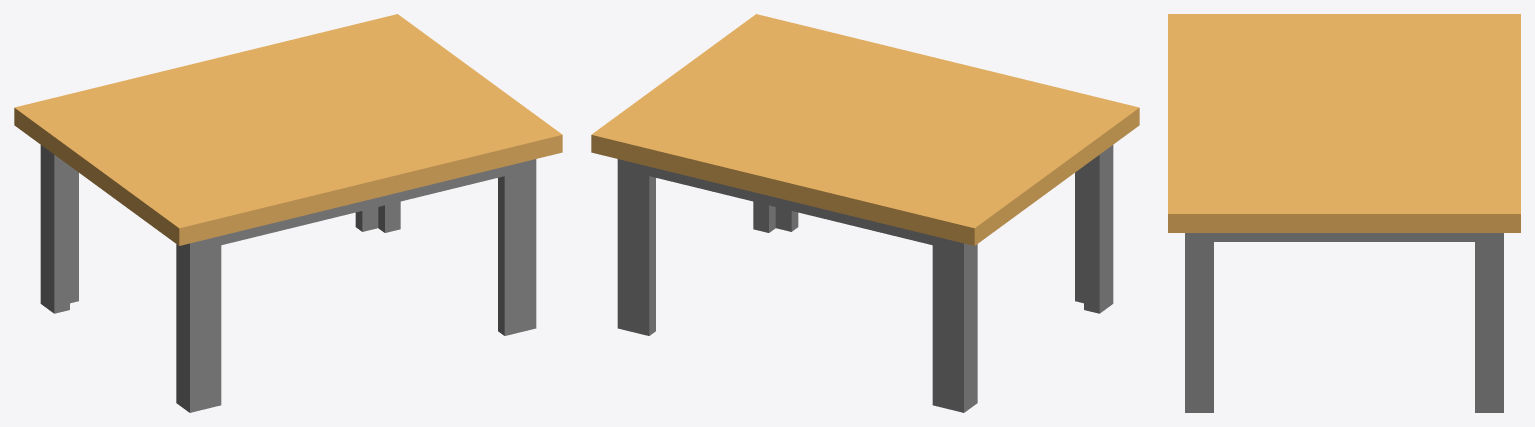
Rendered from table.fbx.
3 views of the same model, side by side, from view 1: azimuth 30°, elevation 25°; view 2: azimuth 150°, elevation 25°; view 3: azimuth 270°, elevation 25° (orthographic). The views are drawn at different scales.
Parts seen in each view (by area): view 1: table; view 2: table; view 3: table.
Boxes of the visible parts, x1,y1,x2,y2 form: table: (14,14,562,412); table: (591,14,1139,412); table: (1168,14,1520,412).
Bounding box in the file's own units: 221 × 108 × 165.
